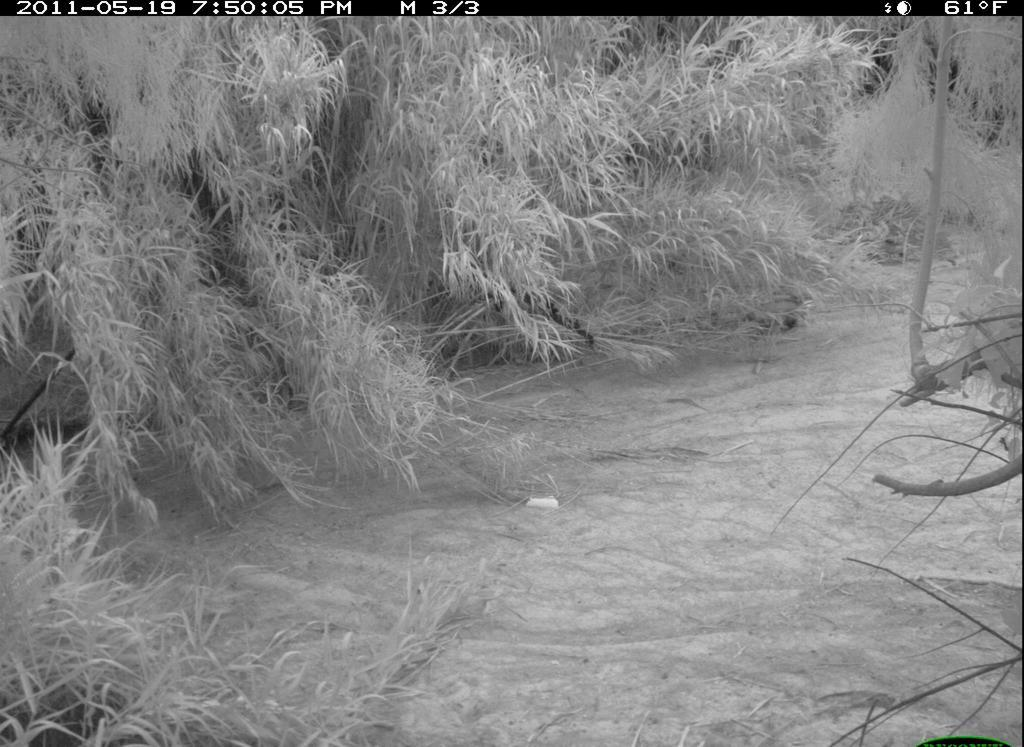opossum: (734, 287, 816, 352)
